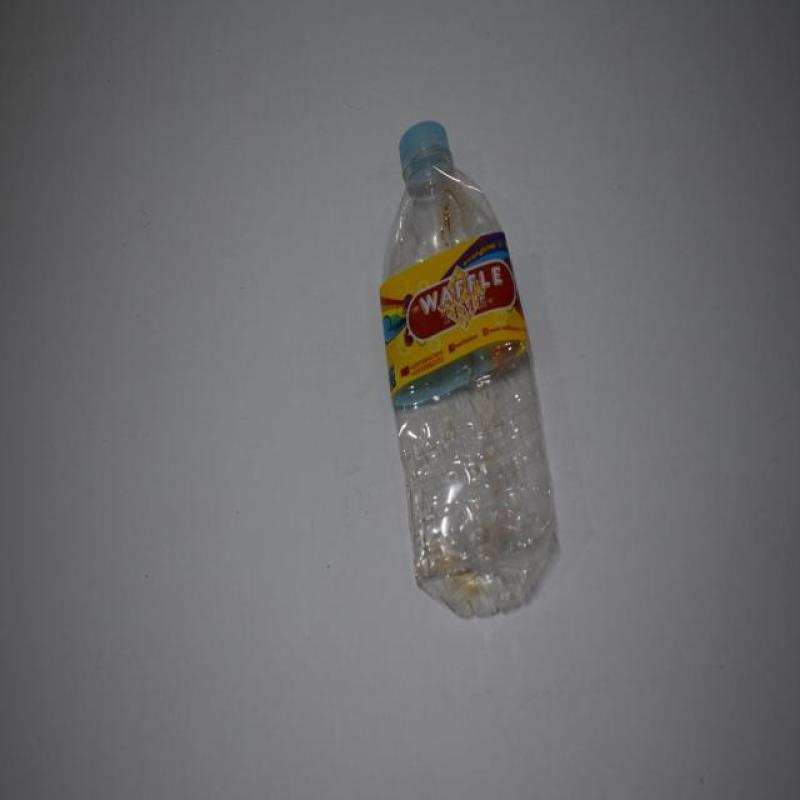botella: (378, 115, 564, 620)
